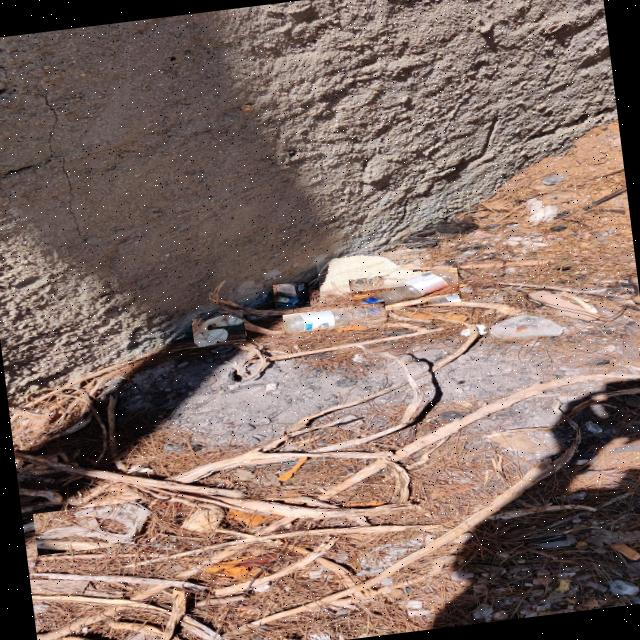Aluminium foil: (353, 355, 365, 360)
Clear plastic bottle: (353, 269, 458, 312), (284, 308, 385, 333)
Other carton: (274, 282, 310, 308)
Plastic bottle cap: (441, 292, 461, 301)
Scrap metal: (525, 534, 566, 545), (245, 461, 295, 468)
Styrofoam piece: (320, 256, 422, 293)
Unlabeled litter: (35, 502, 152, 545), (194, 314, 243, 347), (459, 325, 487, 336)
